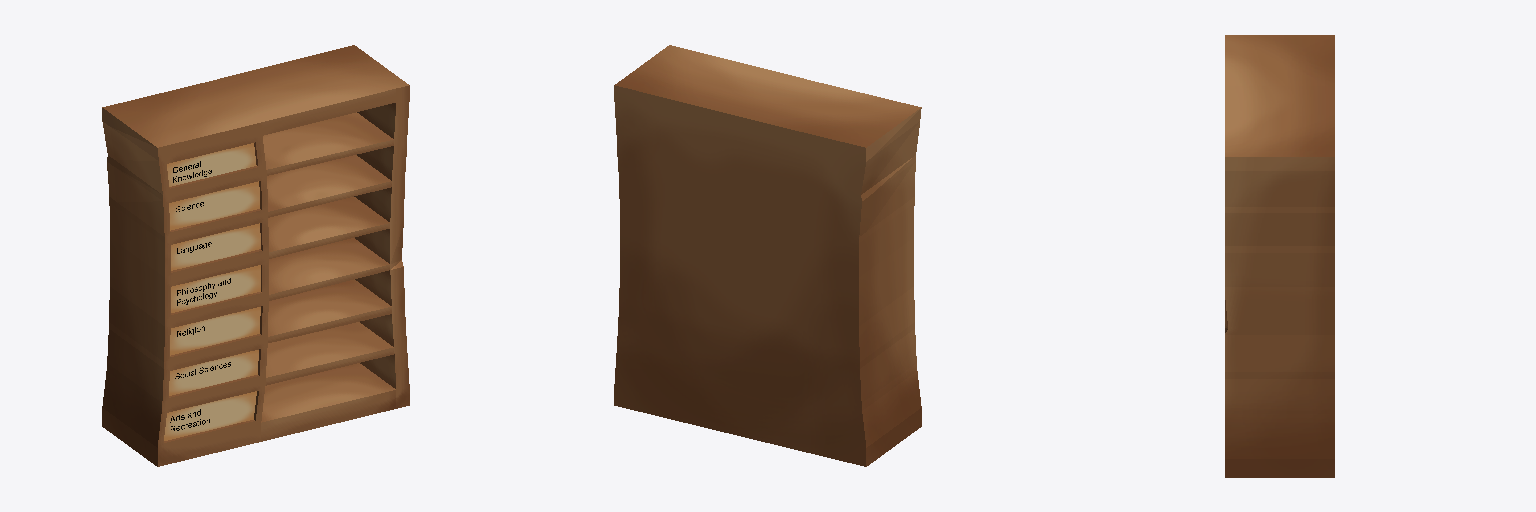
3 views of the same model, side by side, from view 1: azimuth 30°, elevation 25°; view 2: azimuth 150°, elevation 25°; view 3: azimuth 270°, elevation 25° (orthographic).
Parts seen in each view (by area): view 1: drawer, Label2, Label7, Label5, Label4, Label3, Label6, Label1; view 2: drawer; view 3: drawer.
Boxes of the visible parts, x1,y1,x2,y2 form: drawer: [102, 45, 409, 466]; Label2: [169, 181, 259, 230]; Label7: [164, 391, 256, 440]; Label5: [170, 307, 260, 355]; Label4: [171, 265, 260, 312]; Label3: [171, 223, 260, 270]; Label6: [169, 350, 258, 395]; Label1: [167, 143, 256, 186]; drawer: [614, 45, 921, 466]; drawer: [1225, 35, 1334, 477].
Bounding box in the file's own units: 22.96 × 27.88 × 8.71.
Materials: 8 (8 with a texture image).